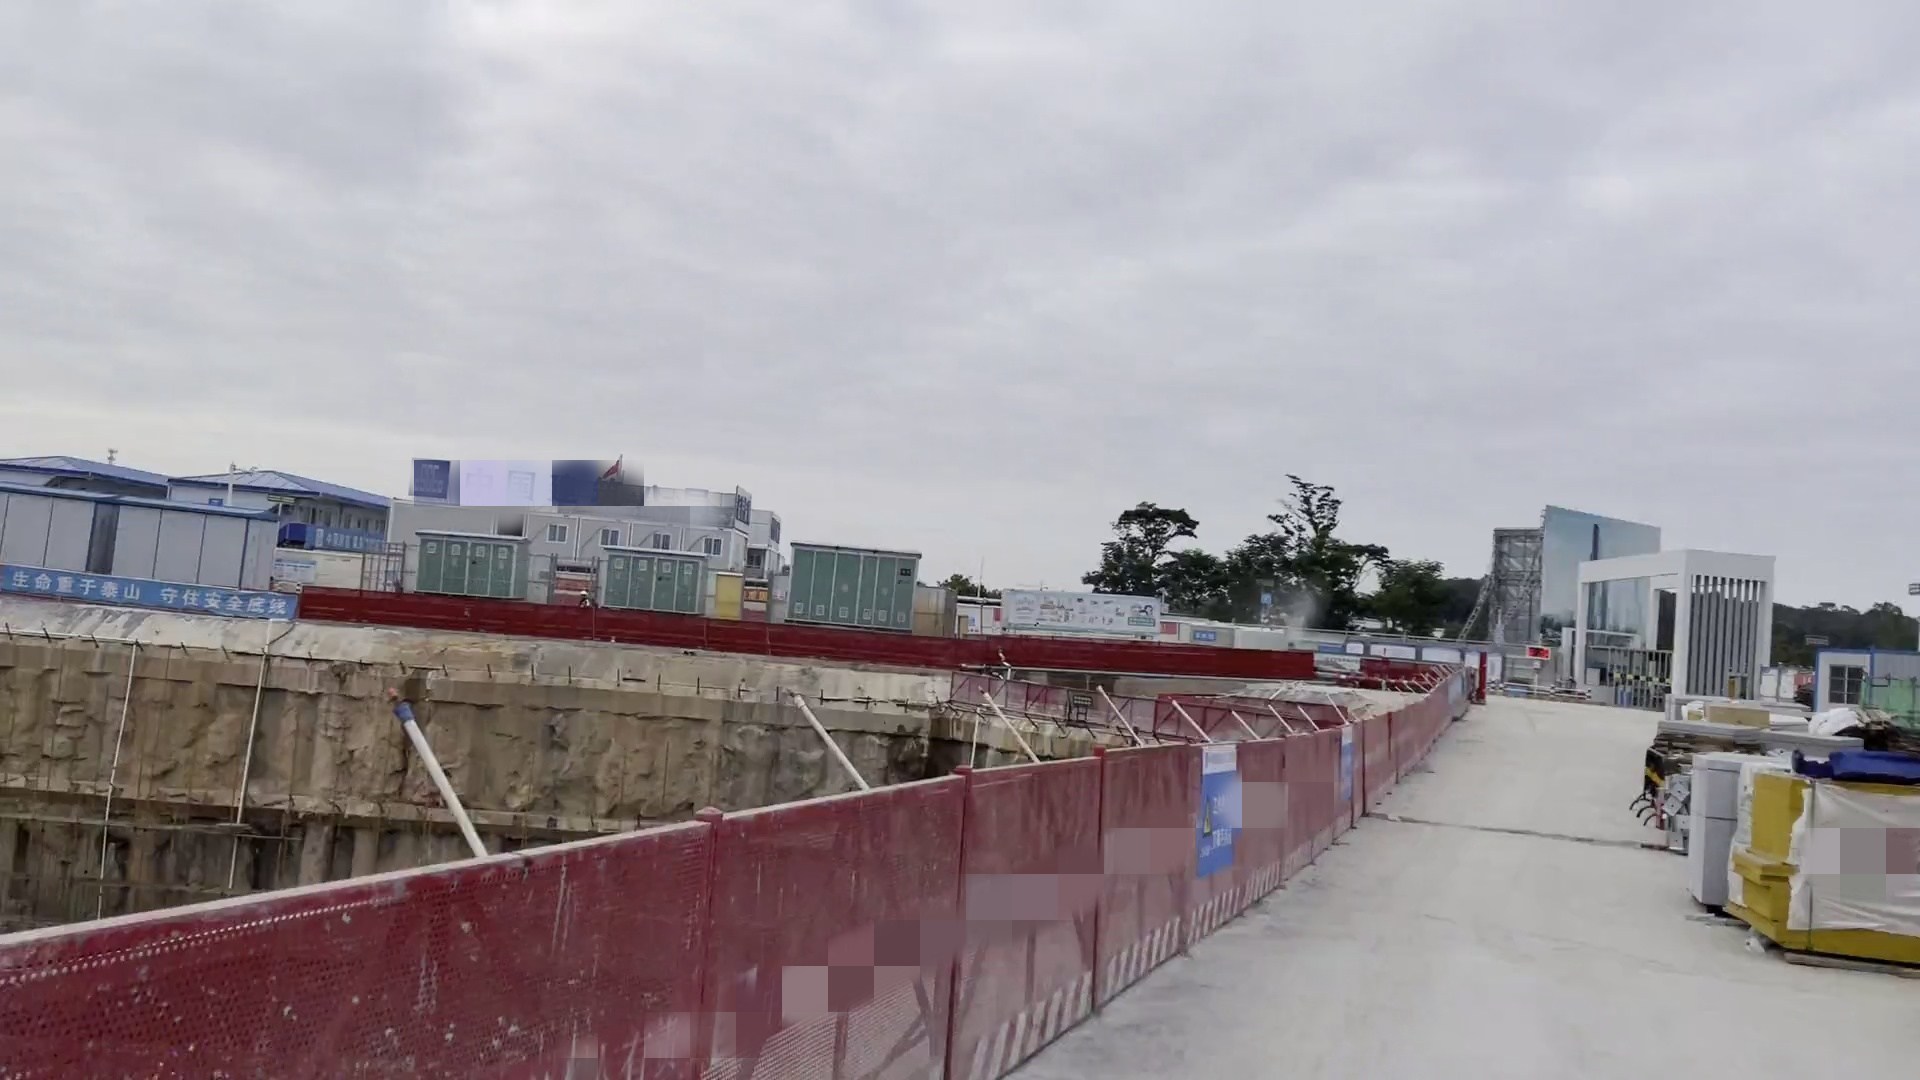board: (1729, 767, 1920, 967)
fence: (8, 688, 1466, 1075), (1, 572, 1462, 694)
slogan: (1, 566, 298, 622)
